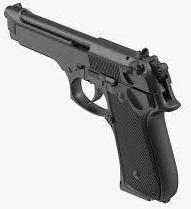gun: (1, 1, 191, 209)
